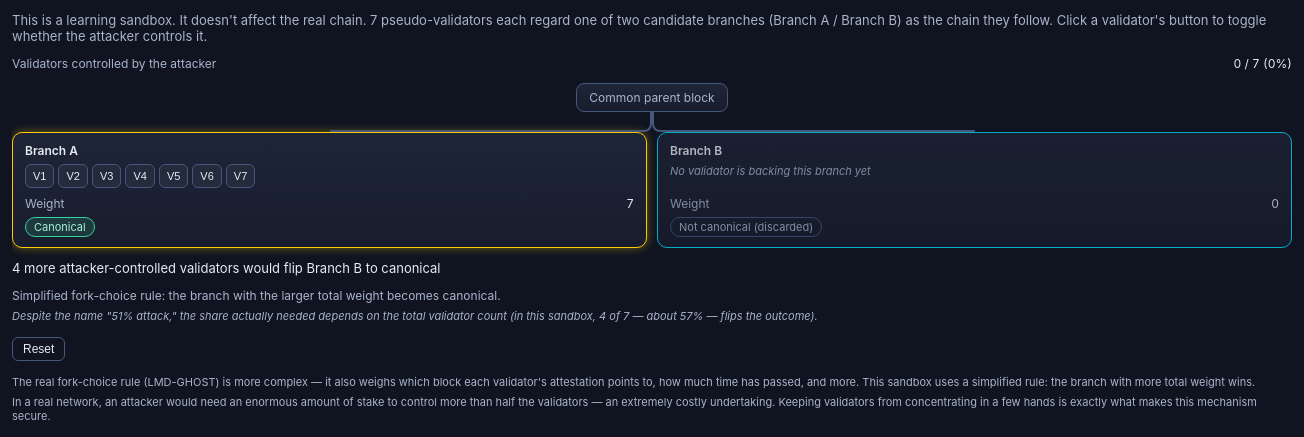
Scenario: FiftyOnePercentAttackDemoView: dynamic text has no unreplaced placeholders › renders the English summary and margin sentences with the substituted numbers
Expected: the text with test id "attack51-demo-summary-value" reads "0 / 7 (0%)", [1234, 56, 1292, 71]
Expected: the text with test id "attack51-demo-margin-hint" reads "4 more attacker-controlled validators would flip Branch B to canonical", [12, 260, 440, 276]
Click the button "V1". click: (40, 176)
box: [25, 164, 54, 188]
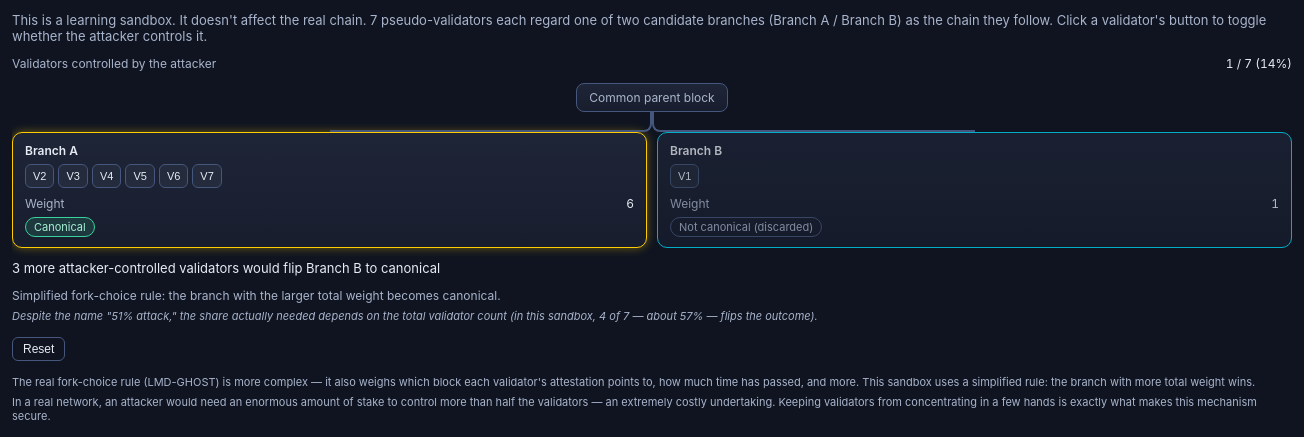
Click the button with test id "attack51-demo-validator-2". click: (40, 176)
box: [25, 164, 54, 188]
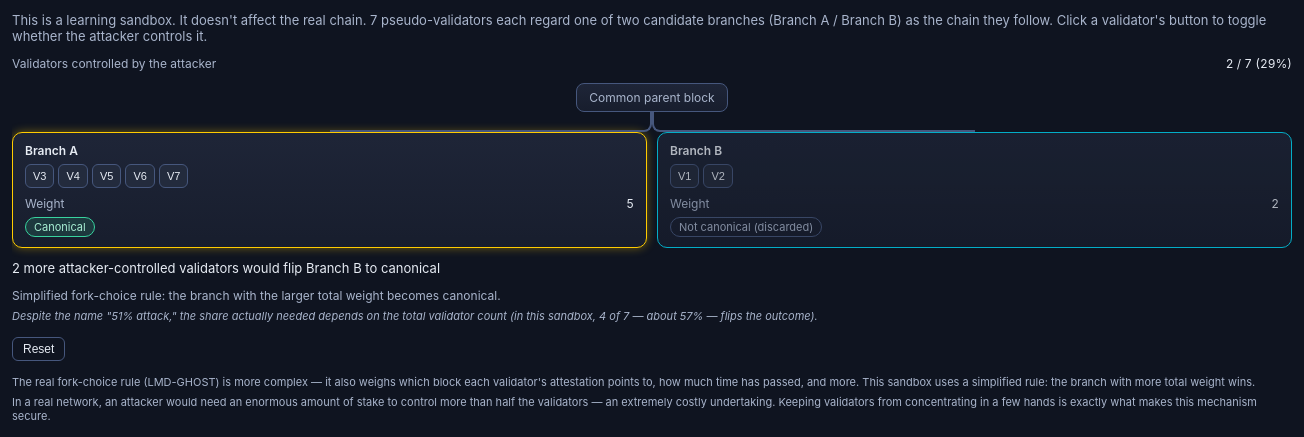
Click the button "V3". click: (40, 176)
box: [25, 164, 54, 188]
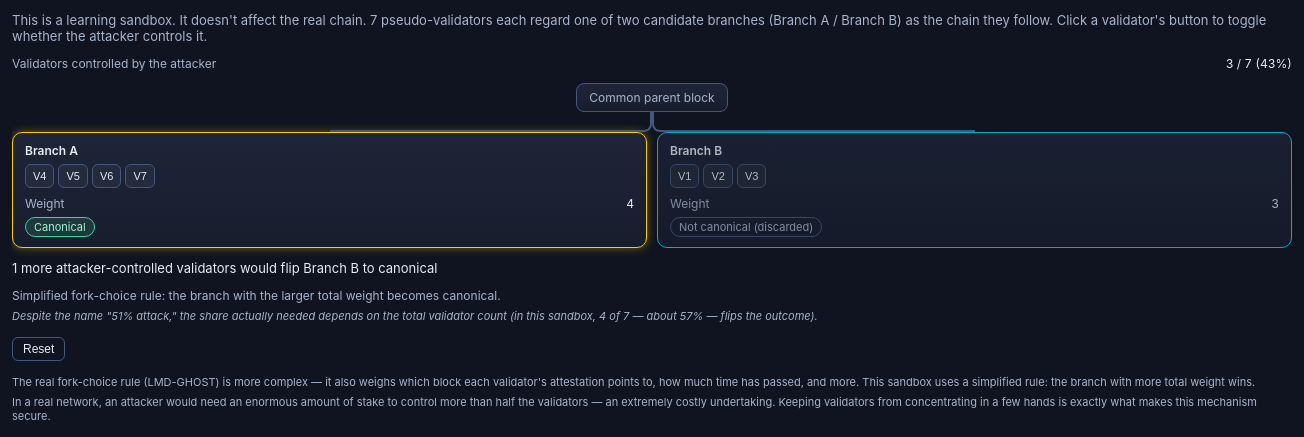
Click the button with test id "attack51-demo-validator-4". click: (40, 176)
box: [25, 164, 54, 188]
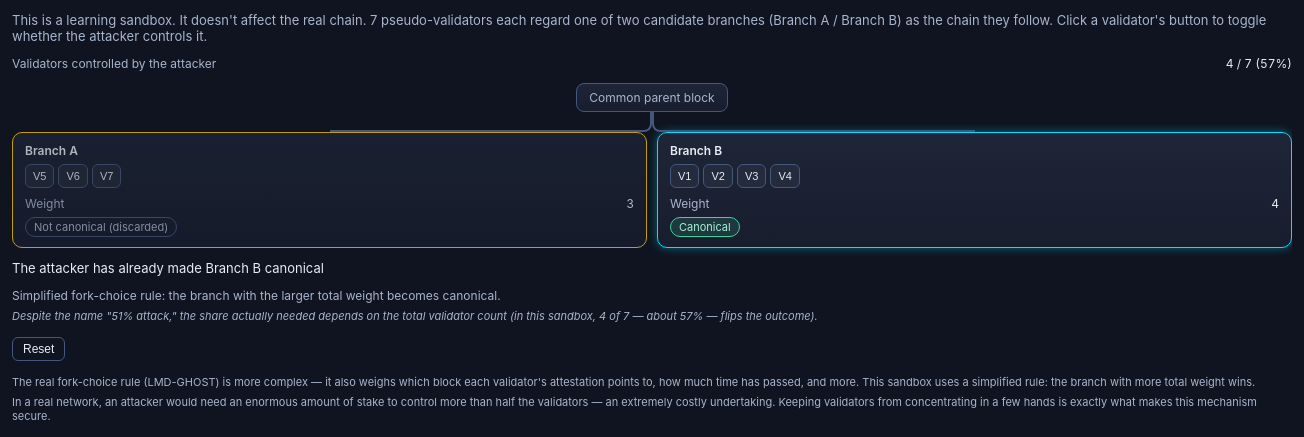
Expected: the text with test id "attack51-demo-summary-value" reads "4 / 7 (57%)", [1226, 56, 1292, 71]
Expected: the text with test id "attack51-demo-margin-hint" reads "The attacker has already made Branch B canonical", [12, 260, 324, 276]
